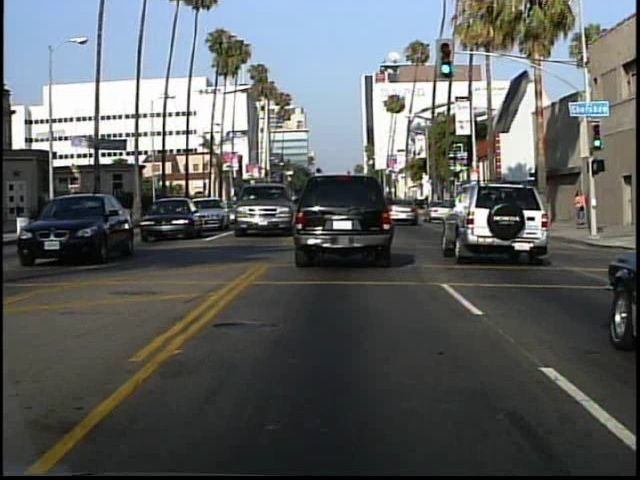person: (573, 188, 588, 228)
